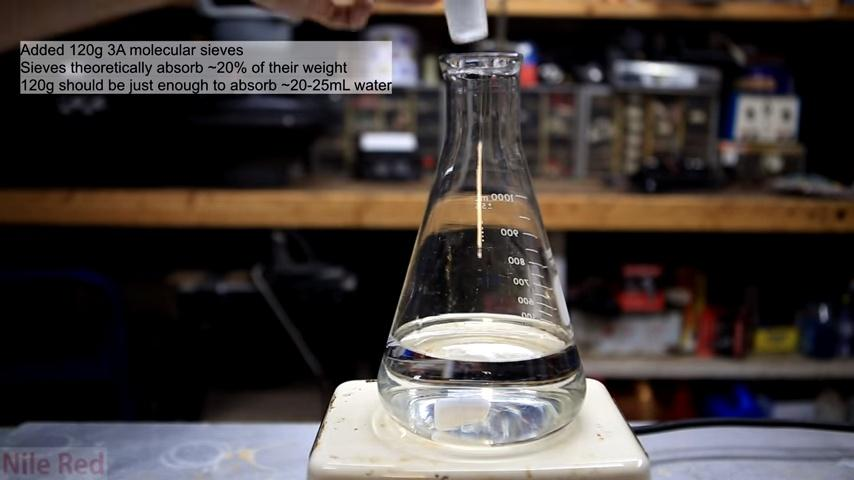Titrarion: (378, 38, 592, 445)
